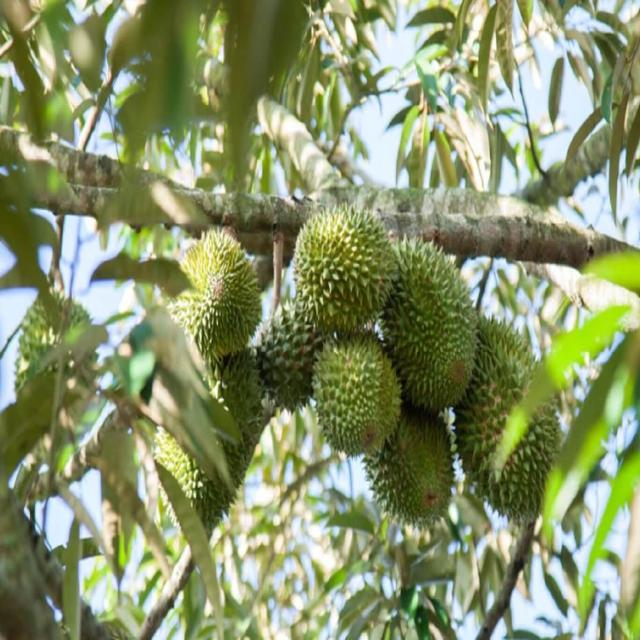Sau Rieng: (457, 306, 559, 516), (381, 234, 477, 399), (168, 221, 264, 365), (293, 199, 394, 333), (312, 329, 400, 452), (372, 408, 457, 523), (487, 397, 563, 516), (14, 285, 94, 389), (252, 295, 323, 407), (153, 427, 224, 531), (210, 346, 265, 445)
